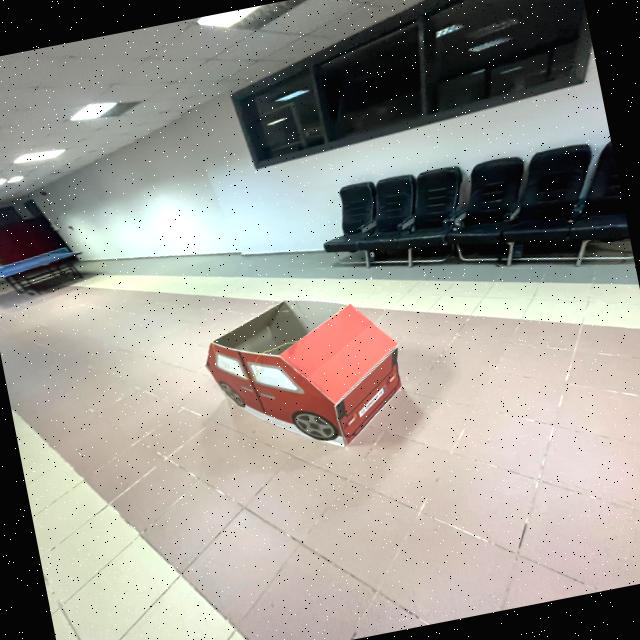red_car: (175, 270, 434, 477)
